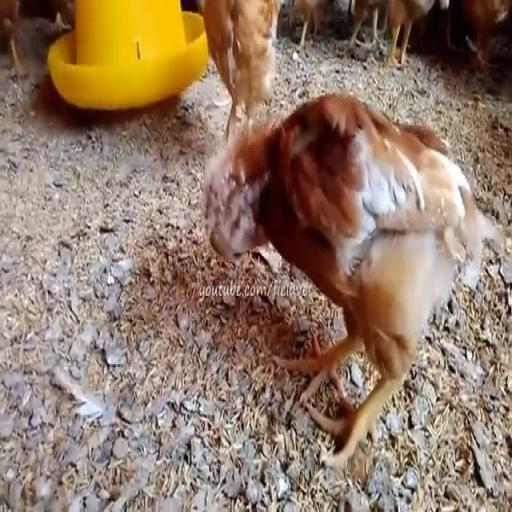disease: (204, 150, 270, 288)
